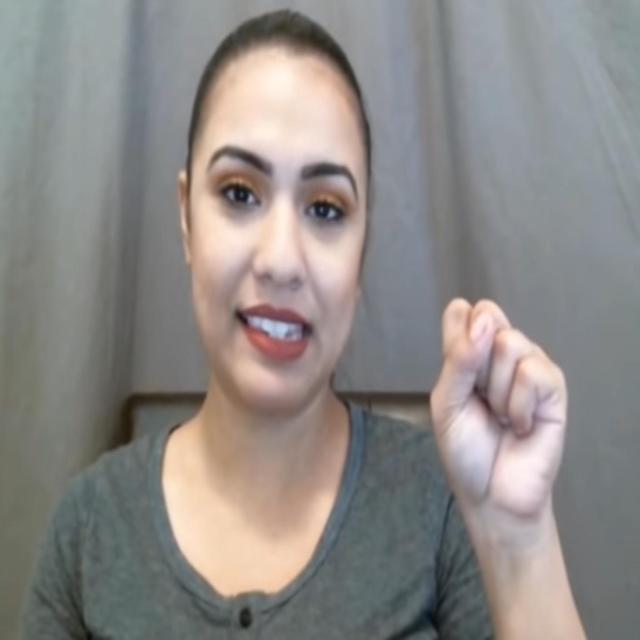S: (425, 291, 572, 522)
